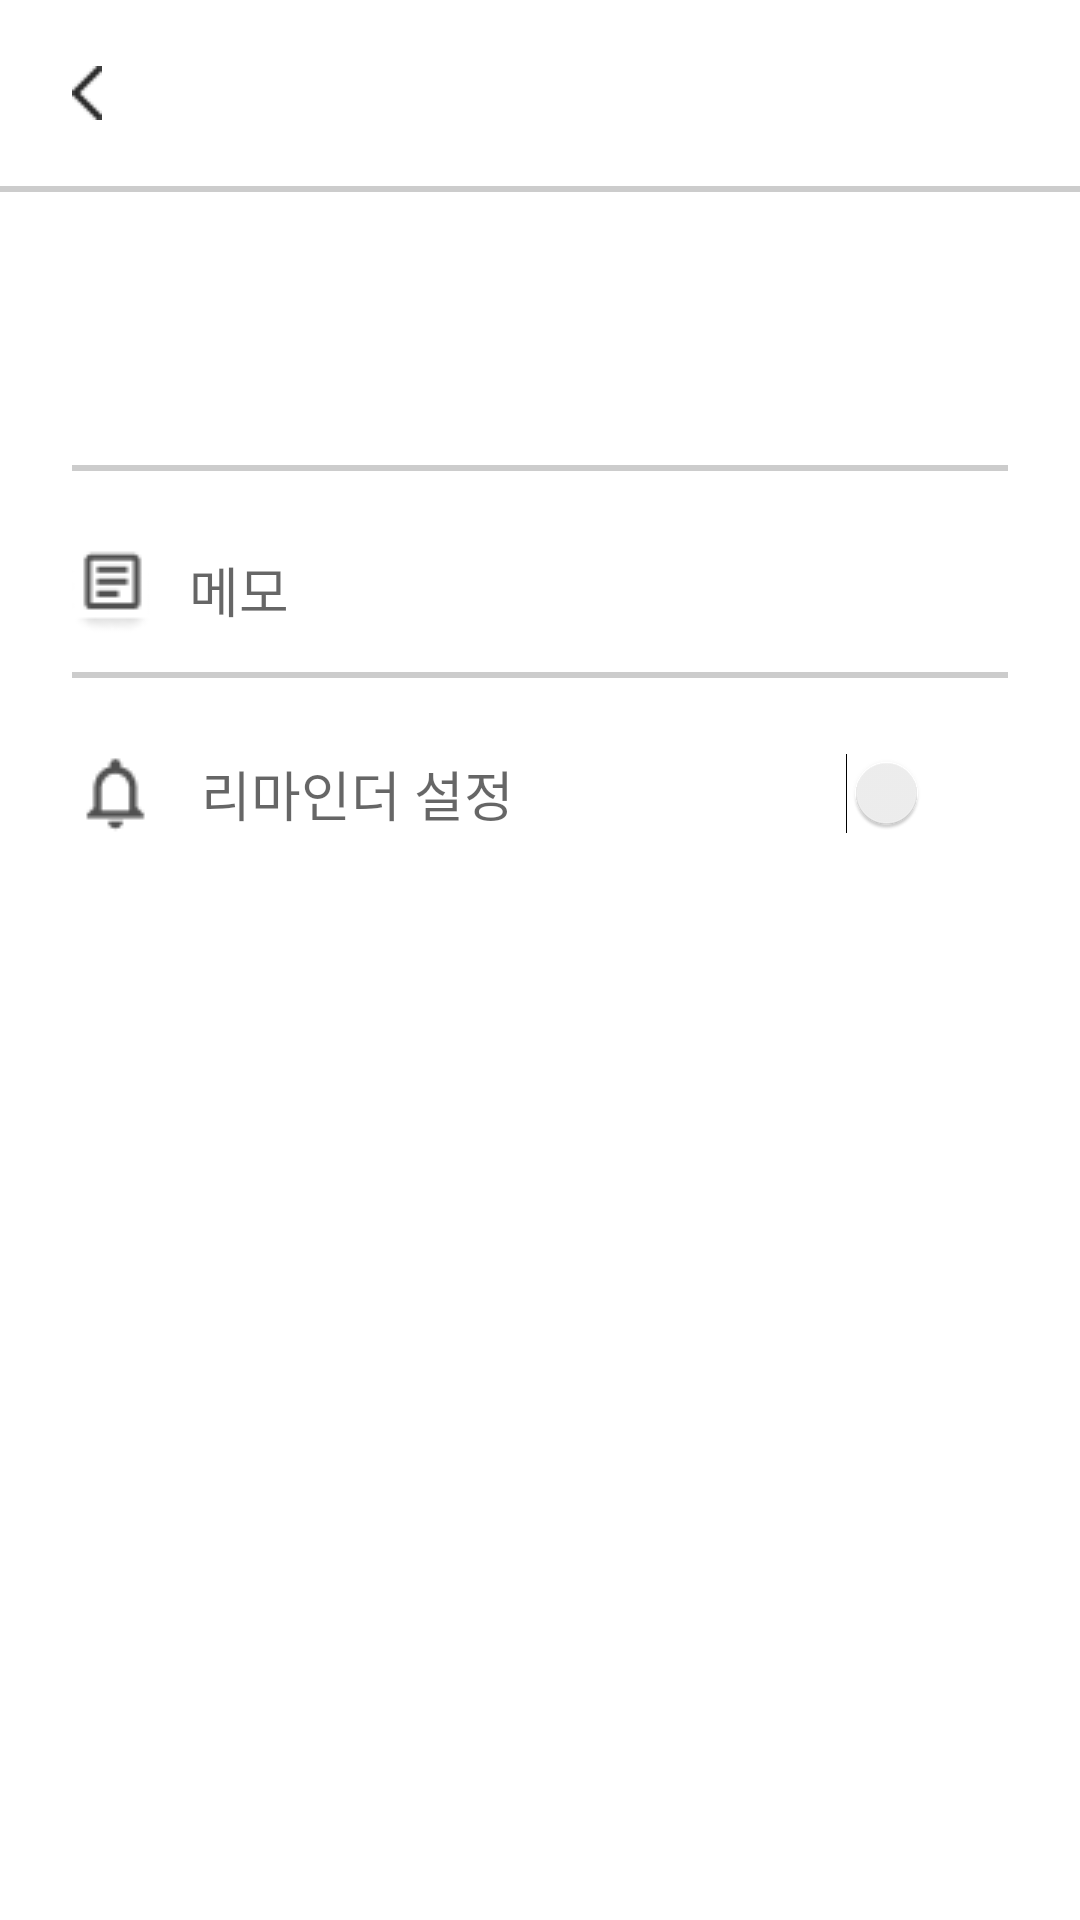

Icon click points for this 1080px×1920px phone screenshot, format (x,y):
arrow back: (87,93)
bell: (115,793)
memo: (112,586)
